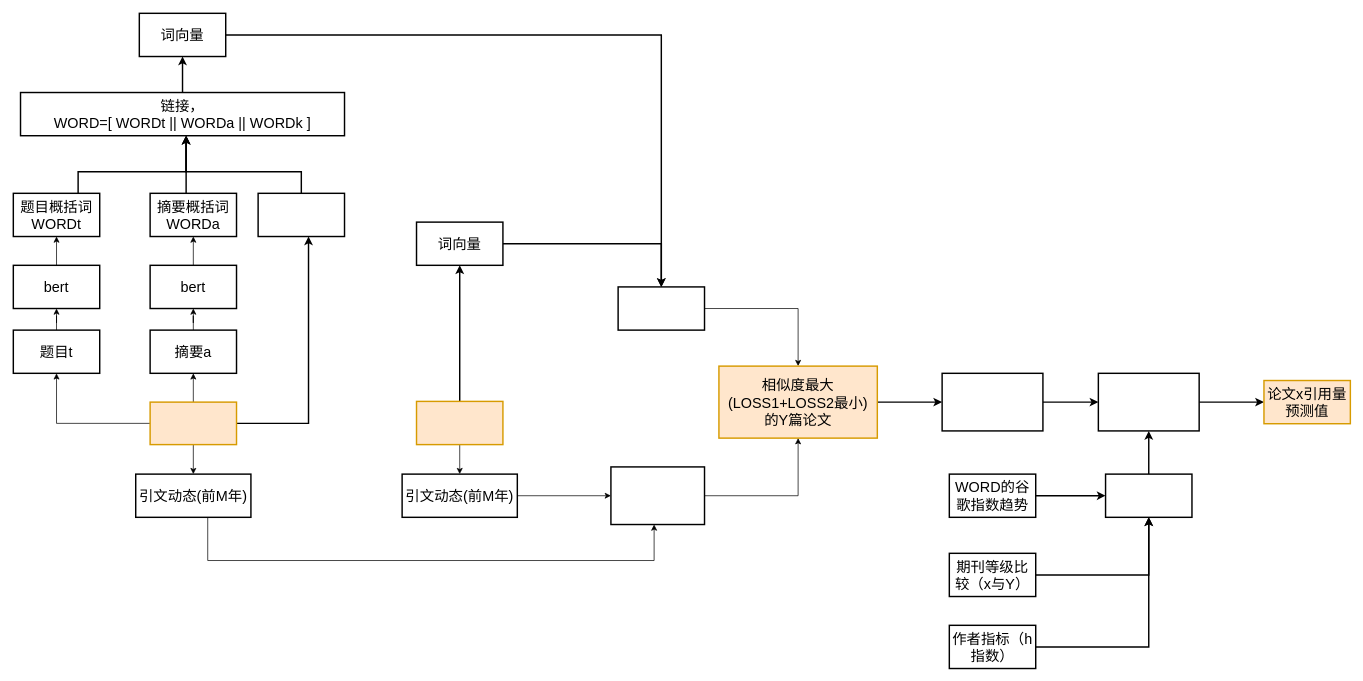
Image size: 1363x681. Some labels were removed from this diagram. The centre of each missing label's shape, as x and y in pixels:
"LOSS1 余弦相似度" goes at (x=661, y=308).
"LOSS2 MSE(MAE)最小值" goes at (x=657, y=495).
"Y篇论文年引用量的高斯分布" goes at (x=992, y=401).
"循环神经网络、LSTM、transformer" goes at (x=1148, y=401).
"数据库其他论文Ys" goes at (x=459, y=422).
"论文关键词 WORDk" goes at (x=301, y=214).
"论文年引用量趋势" goes at (x=1148, y=495).
"预测论文x" goes at (x=193, y=423).
